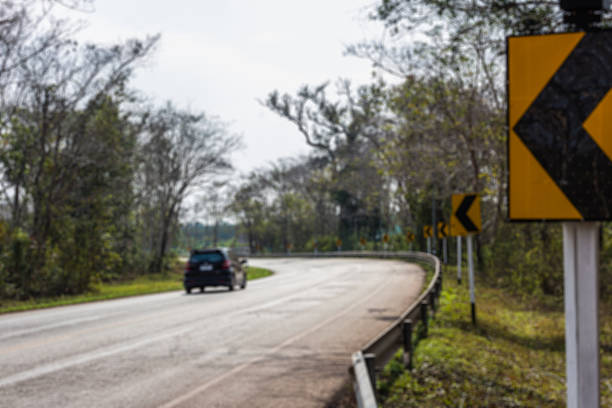car: (185, 249, 247, 293)
left turn: (506, 35, 612, 220), (452, 194, 484, 234), (438, 221, 450, 238), (423, 226, 433, 237), (406, 231, 416, 242), (382, 234, 390, 245)
